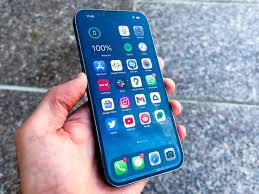Hand: (4, 57, 189, 187)
Smartphone: (71, 2, 186, 181)
